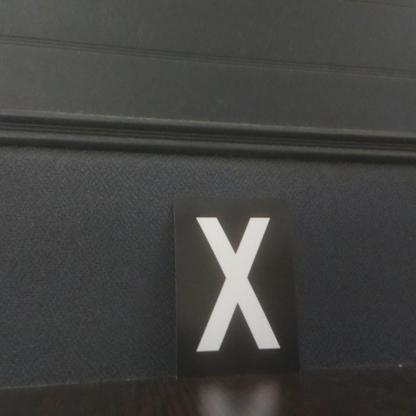x: (175, 198, 298, 376)
